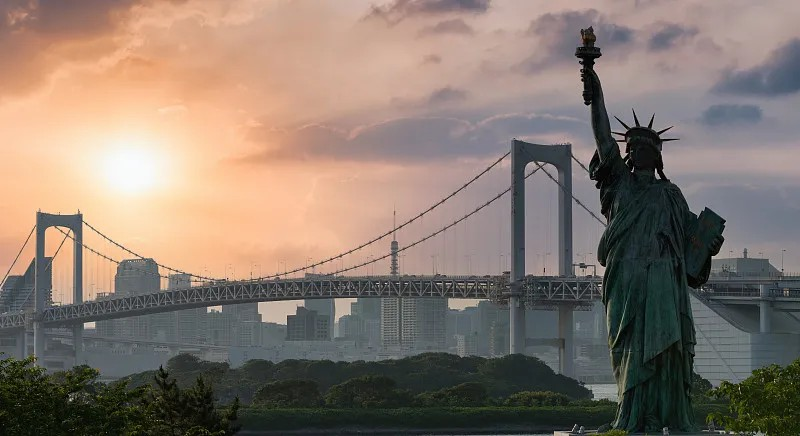SL: (554, 26, 726, 436)
